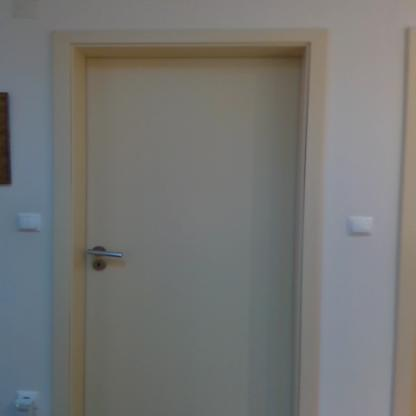closed: (44, 23, 340, 416)
